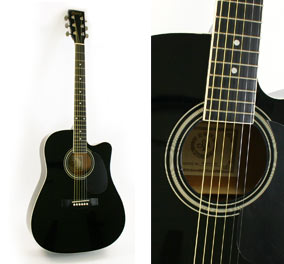guitar: (150, 1, 283, 264), (27, 9, 126, 255)
